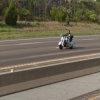Motorcycle: (50, 25, 81, 59)
